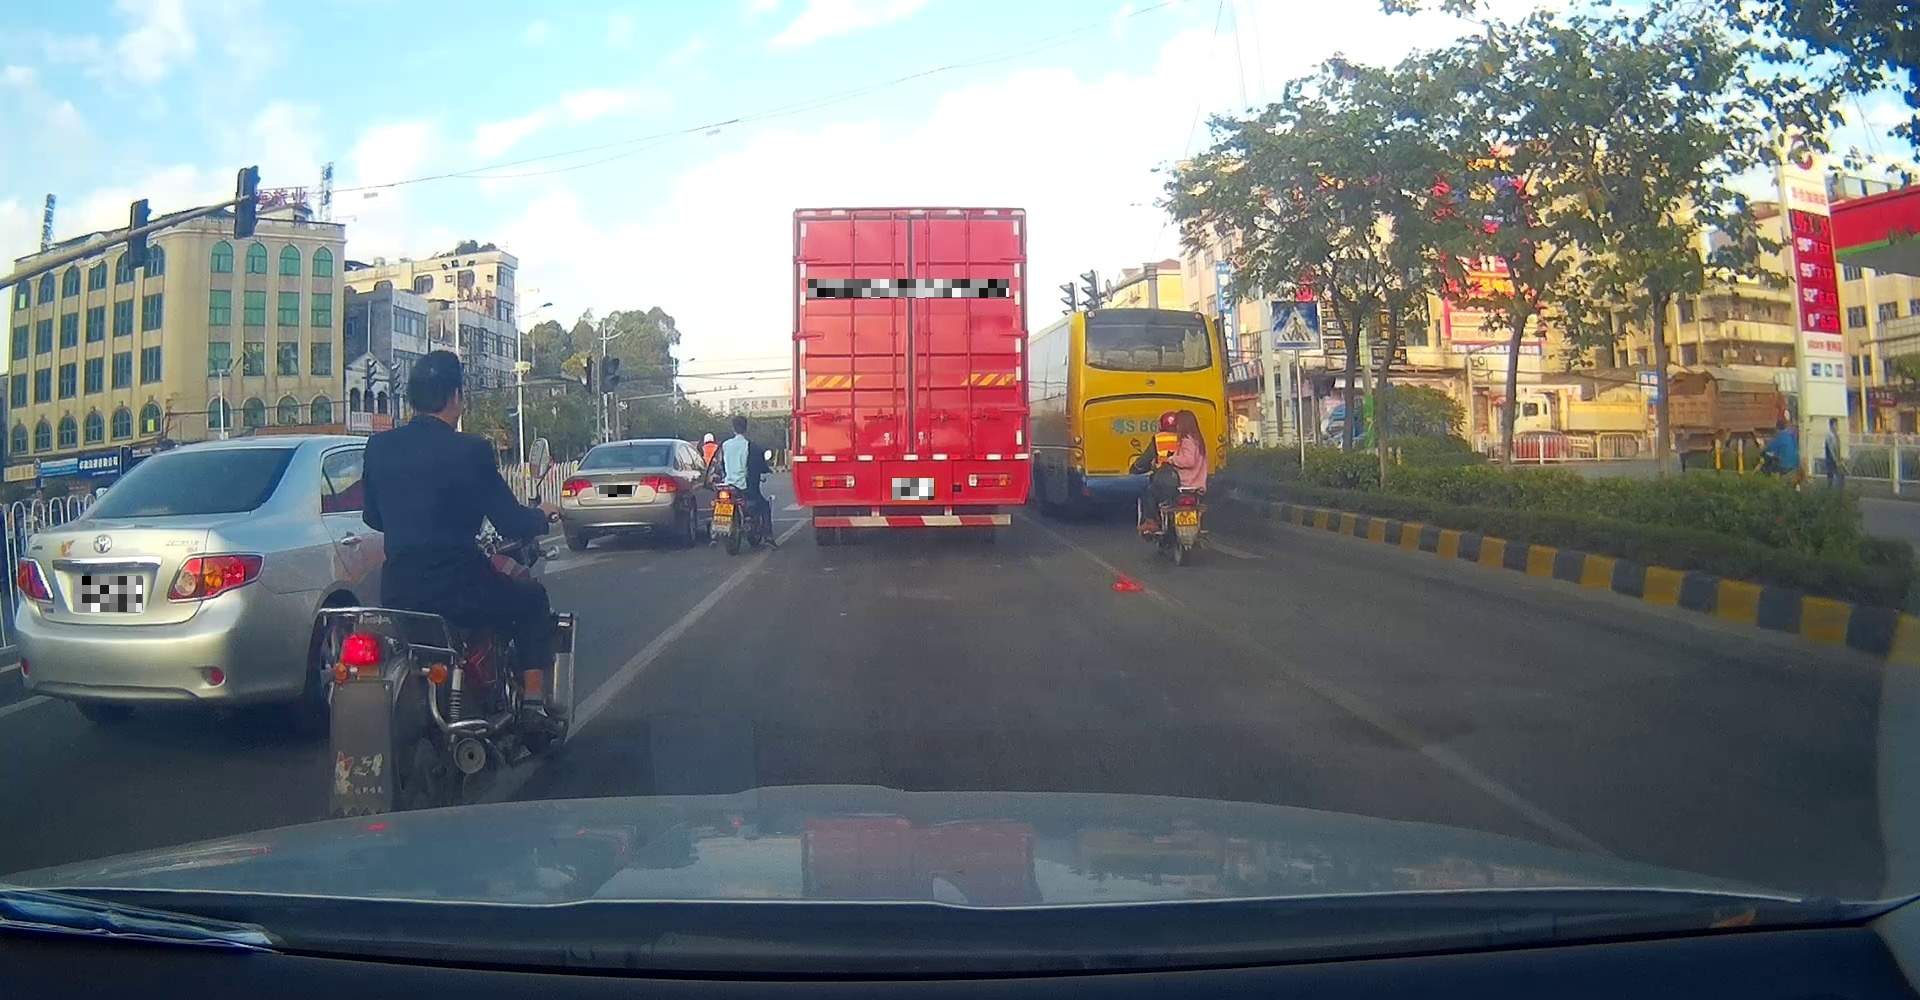L_light: (17, 557, 55, 603), (559, 478, 593, 497), (810, 475, 855, 489), (1073, 437, 1084, 475)
R_light: (165, 551, 265, 603), (637, 473, 677, 492), (968, 473, 1015, 487), (1217, 434, 1225, 472)
T_light: (888, 214, 931, 231), (1130, 363, 1166, 373), (196, 451, 229, 461), (621, 445, 639, 451)
day-left: (559, 438, 678, 551)
day-no: (11, 435, 301, 741), (789, 206, 1031, 547), (1073, 307, 1228, 523)
plate_1: (72, 576, 142, 612)
plate_2: (599, 485, 632, 497)
plate_3: (808, 279, 1010, 298)
plate_4: (891, 478, 935, 500)
